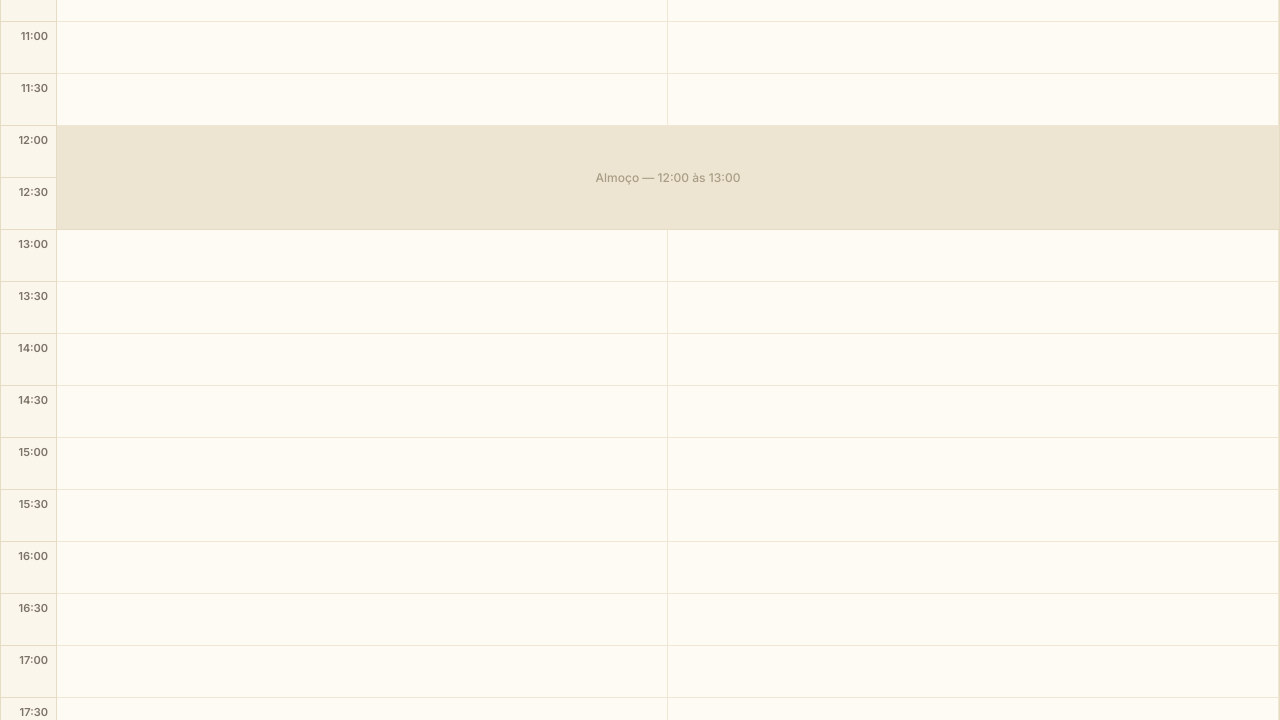
Test: Integração do usoAgenda com a grade › agendamento criado pelo modal aparece na grade no mesmo horário
(page scrolled)
Click the element named "Agendar 14:00 com Ítalo Santos".
click(974, 360)  # box [668,334,1279,386]
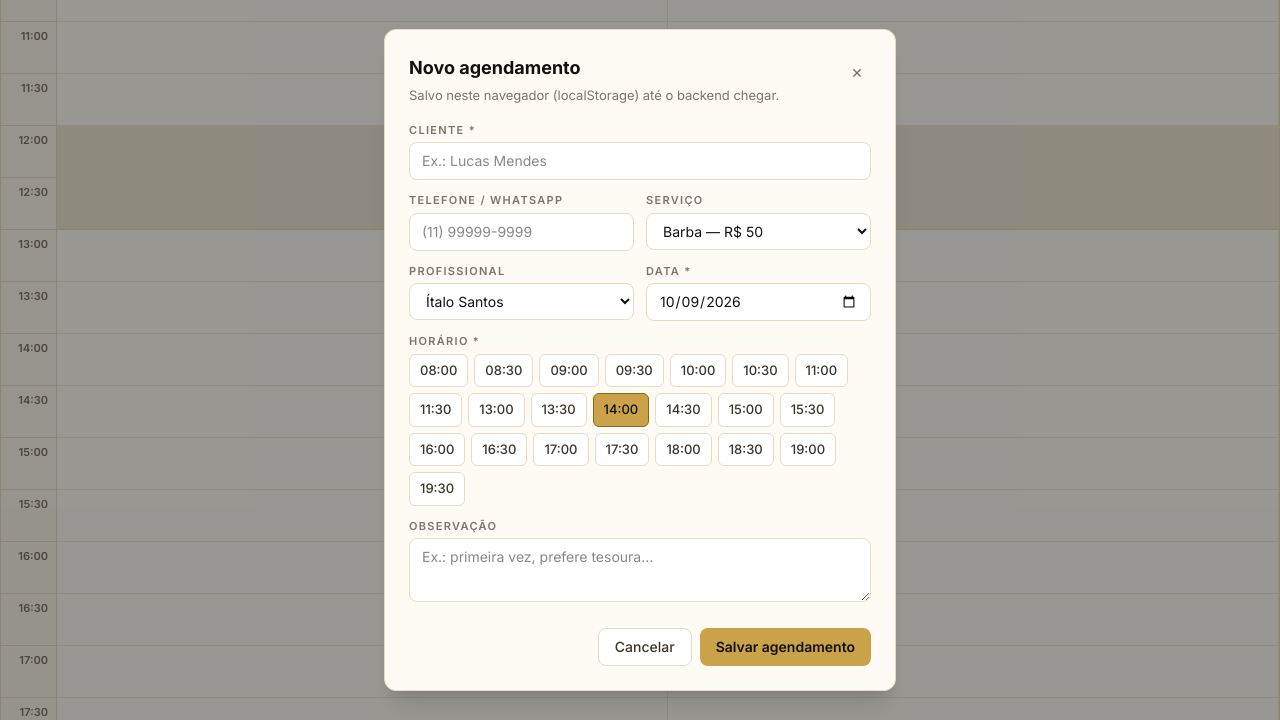
Type "Bruno Dias" into the field labelled "Cliente *".
click(640, 161); type("Bruno Dias")  # box [409,142,871,180]
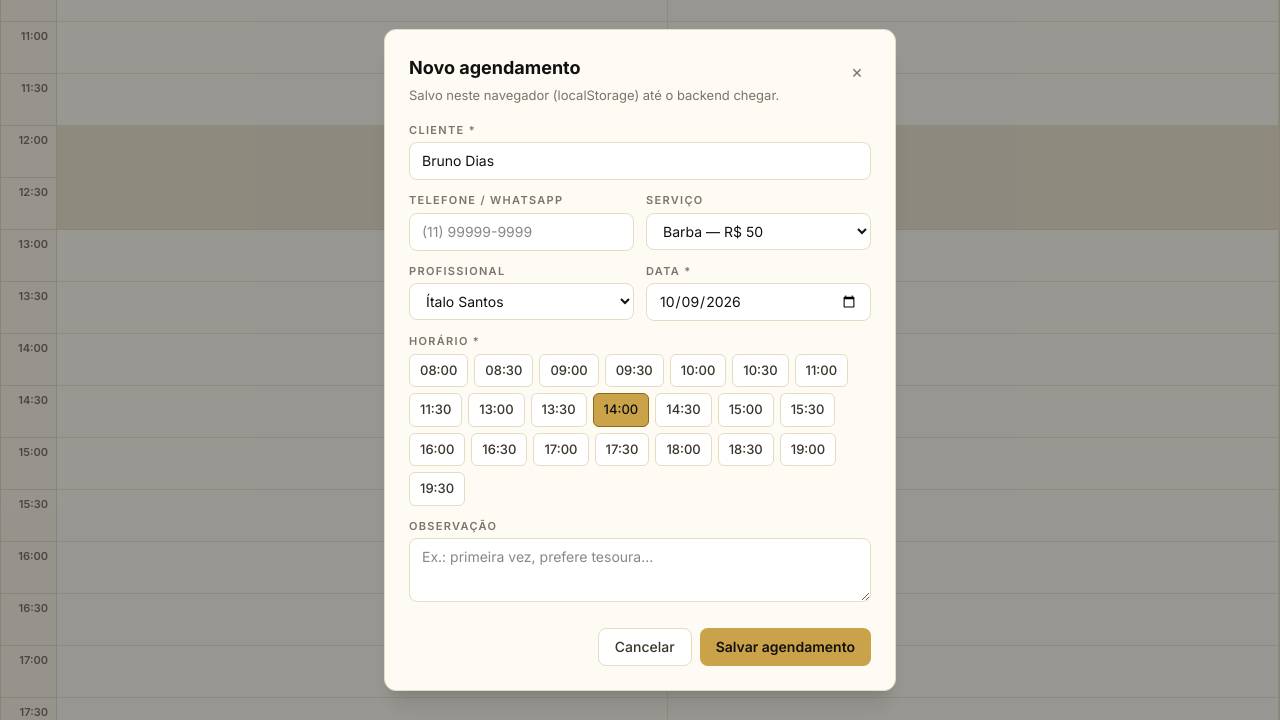
Click the button "Salvar agendamento".
click(785, 647)  # box [700,628,871,666]
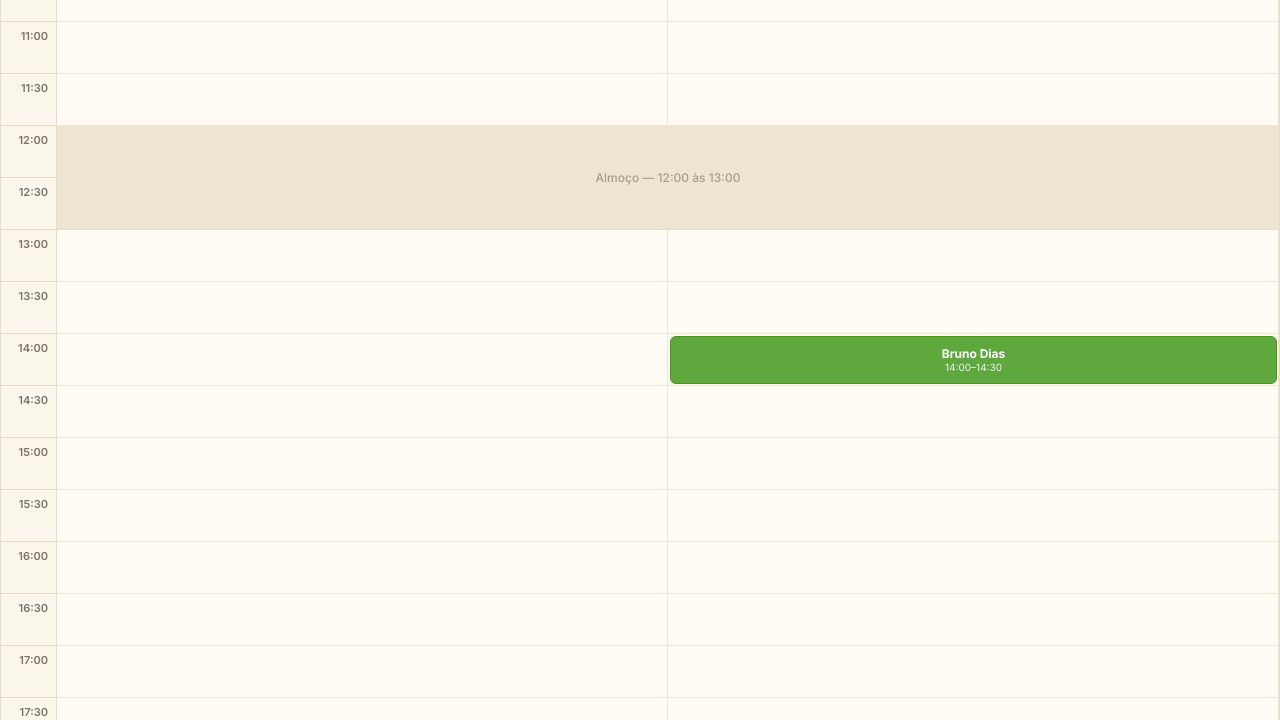
Now the text "Bruno Dias" is shown, box [942,346,1005,361]
